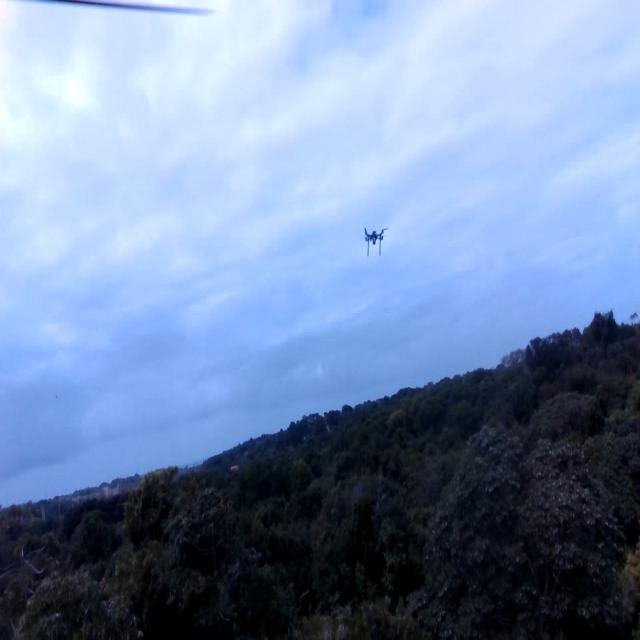-uav-: (358, 205, 395, 269)
